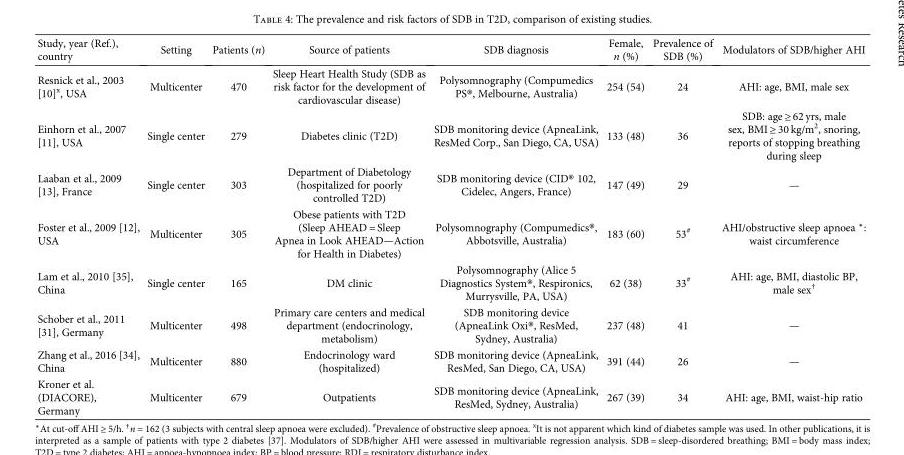table: (37, 36, 866, 416)
table column: (429, 36, 602, 416), (269, 36, 429, 416), (717, 36, 866, 416), (37, 36, 143, 416), (648, 36, 717, 416), (143, 36, 208, 416), (208, 36, 269, 416), (602, 36, 648, 416)
table column header: (37, 36, 866, 64)
table row: (37, 107, 866, 163), (37, 205, 866, 261), (37, 64, 866, 107), (37, 303, 866, 346), (37, 163, 866, 205), (37, 261, 866, 303), (37, 375, 866, 416), (37, 346, 866, 375), (37, 36, 866, 64)
